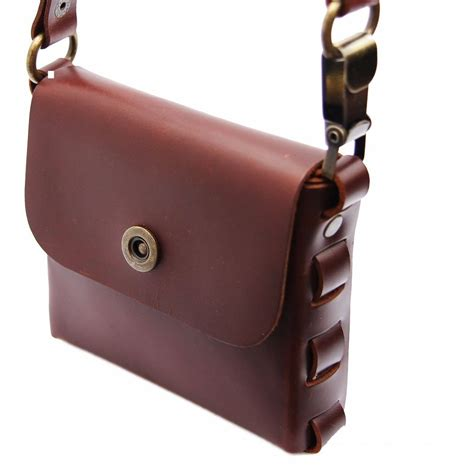cuero: (23, 1, 381, 455)
